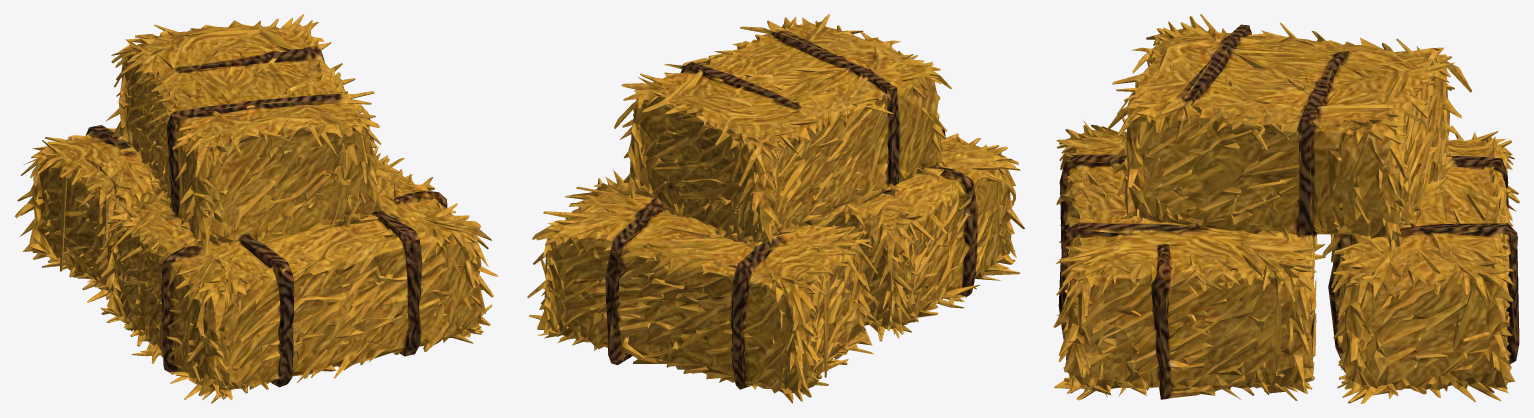
File: hayBales.glb
3 renders of one model, left to right at view 1: azimuth 30°, elevation 25°; view 2: azimuth 150°, elevation 25°; view 3: azimuth 270°, elevation 25°, orthographic. The views are drawn at different scales.
Parts seen in each view (by area): view 1: geometry_0; view 2: geometry_0; view 3: geometry_0.
Boxes of the visible parts, x1,y1,x2,y2 form: geometry_0: [15, 14, 498, 403]; geometry_0: [527, 14, 1024, 403]; geometry_0: [1053, 14, 1519, 403].
Bounding box in the file's own units: 0.8735 × 0.6319 × 1.
1 material, 1 textured.
